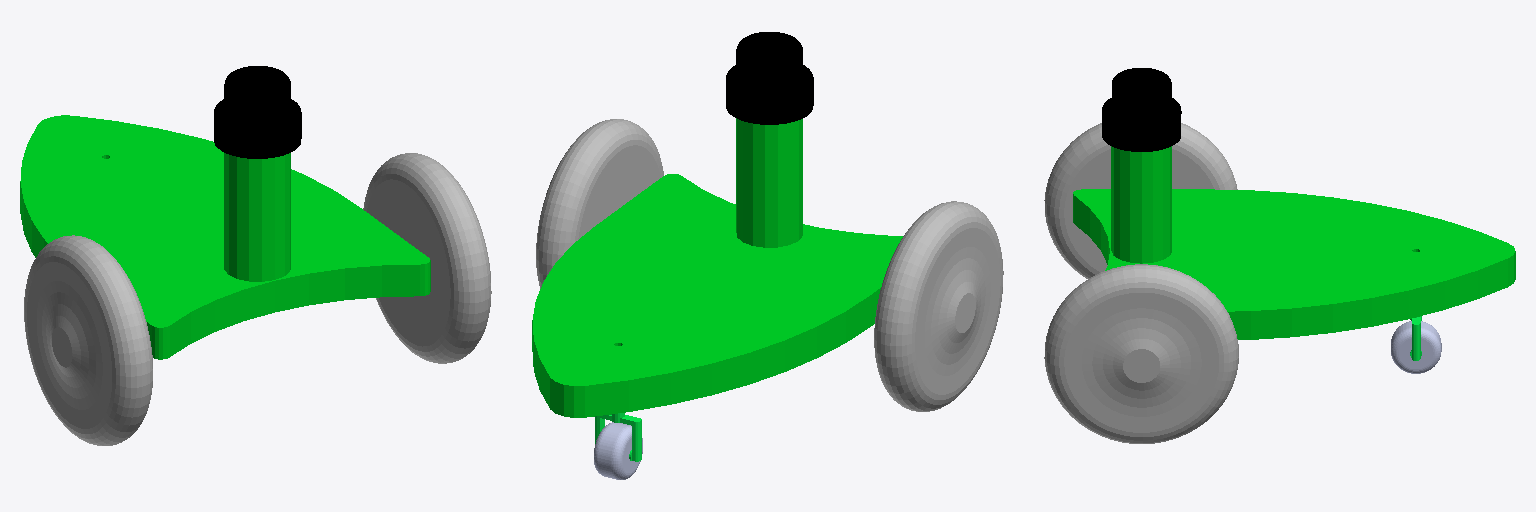
URDF robot description (rtvfin):
<?xml version="1.0" encoding="utf-8"?>
<!-- This URDF was automatically created by SolidWorks to URDF Exporter! Originally created by [author] ([email redacted]) 
     Commit Version: 1.6.0-1-g15f4949  Build Version: 1.6.7594.29634
     For more information, please see http://wiki.ros.org/sw_urdf_exporter -->
<robot
  name="rtvfin">
  <link name="base_link">
    <inertial>
      <origin
        xyz="0.1975 0.14943 -0.17868"
        rpy="0 0 0" />
      <mass
        value="6.851" />
      <inertia
        ixx="0.13782"
        ixy="-1.1943E-17"
        ixz="6.9346E-17"
        iyy="0.18627"
        iyz="-0.010532"
        izz="0.06655" />
    </inertial>
    <visual>
      <origin
        xyz="0 0 0"
        rpy="0 0 0" />
      <geometry>
        <mesh
          filename="package://rtvfin/meshes/base_link.STL" />
      </geometry>
      <material
        name="">
        <color
          rgba="0 0.87843 0.16471 1" />
      </material>
    </visual>
    <collision>
      <origin
        xyz="0 0 0"
        rpy="0 0 0" />
      <geometry>
        <mesh
          filename="package://rtvfin/meshes/base_link.STL" />
      </geometry>
    </collision>
  </link>
  <link name="left_wheel_link">
    <inertial>
      <origin
        xyz="-0.025442562384682 0 -1.38777878078145E-17"
        rpy="0 0 0" />
      <mass
        value="2.23208588786701" />
      <inertia
        ixx="0.0150507702527097"
        ixy="-7.83936393224049E-19"
        ixz="9.01679053389912E-19"
        iyy="0.00801207149472829"
        iyz="-6.50521303491303E-19"
        izz="0.00801207149472829" />
    </inertial>
    <visual>
      <origin
        xyz="0 0 0"
        rpy="0 0 0" />
      <geometry>
        <mesh
          filename="package://rtvfin/meshes/left_wheel_link.STL" />
      </geometry>
      <material
        name="">
        <color
          rgba="0.752941176470588 0.752941176470588 0.752941176470588 1" />
      </material>
    </visual>
    <collision>
      <origin
        xyz="0 0 0"
        rpy="0 0 0" />
      <geometry>
        <mesh
          filename="package://rtvfin/meshes/left_wheel_link.STL" />
      </geometry>
    </collision>
  </link>
  <joint name="left_link"
    type="continuous">
    <origin
      xyz="0 0.035844 0.11868"
      rpy="-2.1829 0 0" />
    <parent
      link="base_link" />
    <child
      link="left_wheel_link" />
    <axis
      xyz="1 0 0" />
  </joint>
  <link name="right_wheel_link">
    <inertial>
      <origin
        xyz="-0.083442562384682 -2.08166817117217E-17 2.77555756156289E-17"
        rpy="0 0 0" />
      <mass
        value="2.23208588786701" />
      <inertia
        ixx="0.0150507702527097"
        ixy="1.04707723527385E-18"
        ixz="4.47140523783489E-19"
        iyy="0.0080120714947283"
        iyz="0"
        izz="0.0080120714947283" />
    </inertial>
    <visual>
      <origin
        xyz="0 0 0"
        rpy="0 0 0" />
      <geometry>
        <mesh
          filename="package://rtvfin/meshes/right_wheel_link.STL" />
      </geometry>
      <material
        name="">
        <color
          rgba="0.752941176470588 0.752941176470588 0.752941176470588 1" />
      </material>
    </visual>
    <collision>
      <origin
        xyz="0 0 0"
        rpy="0 0 0" />
      <geometry>
        <mesh
          filename="package://rtvfin/meshes/right_wheel_link.STL" />
      </geometry>
    </collision>
  </link>
  <joint name="fight_link"
    type="continuous">
    <origin
      xyz="0.337 0.035844 0.11868"
      rpy="2.9765 0 3.1416" />
    <parent
      link="base_link" />
    <child
      link="right_wheel_link" />
    <axis
      xyz="1 0 0" />
  </joint>
  <link name="little_body_link">
    <inertial>
      <origin
        xyz="-2.67674771237125E-13 0.0459540094478621 -7.64113969988212E-05"
        rpy="0 0 0" />
      <mass
        value="0.0309195136006862" />
      <inertia
        ixx="4.25932255697471E-05"
        ixy="-7.90156577307605E-17"
        ixz="-2.31994972687621E-14"
        iyy="7.40957987340259E-06"
        iyz="-2.25518117414848E-08"
        izz="3.59714206217553E-05" />
    </inertial>
    <visual>
      <origin
        xyz="0 0 0"
        rpy="0 0 0" />
      <geometry>
        <mesh
          filename="package://rtvfin/meshes/little_body_link.STL" />
      </geometry>
      <material
        name="">
        <color
          rgba="0.0392156862745098 1 0.337254901960784 1" />
      </material>
    </visual>
    <collision>
      <origin
        xyz="0 0 0"
        rpy="0 0 0" />
      <geometry>
        <mesh
          filename="package://rtvfin/meshes/little_body_link.STL" />
      </geometry>
    </collision>
  </link>
  <joint name="body_link"
    type="fixed">
    <origin
      xyz="0.1975 0.38084 0.017124"
      rpy="1.5708 0 1.5708" />
    <parent
      link="base_link" />
    <child
      link="little_body_link" />
    <axis
      xyz="0 1 0" />
  </joint>
  <link name="little_wheel_link">
    <inertial>
      <origin
        xyz="0.00121984656174834 -0.00218219485055544 -9.37075362563156E-05"
        rpy="0 0 0" />
      <mass
        value="0.105305674206665" />
      <inertia
        ixx="3.75986355552618E-05"
        ixy="0"
        ixz="4.8958160903679E-14"
        iyy="3.75986355552618E-05"
        iyz="2.73676072745913E-14"
        izz="5.36078275271206E-05" />
    </inertial>
    <visual>
      <origin
        xyz="0 0 0"
        rpy="0 0 0" />
      <geometry>
        <mesh
          filename="package://rtvfin/meshes/little_wheel_link.STL" />
      </geometry>
      <material
        name="">
        <color
          rgba="0.792156862745098 0.819607843137255 0.933333333333333 1" />
      </material>
    </visual>
    <collision>
      <origin
        xyz="0 0 0"
        rpy="0 0 0" />
      <geometry>
        <mesh
          filename="package://rtvfin/meshes/little_wheel_link.STL" />
      </geometry>
    </collision>
  </link>
  <joint name="little_link"
    type="continuous">
    <origin
      xyz="0 0.01 0"
      rpy="0 0 -0.50973" />
    <parent
      link="little_body_link" />
    <child
      link="little_wheel_link" />
    <axis
      xyz="0 0 1" />
  </joint>
  <link name="lidar_scaner_link">
    <inertial>
      <origin
        xyz="0 -4.16333634234434E-17 0.0342165768302536"
        rpy="0 0 0" />
      <mass
        value="0.491430460551325" />
      <inertia
        ixx="0.000499328268367785"
        ixy="0"
        ixz="4.35781389685268E-20"
        iyy="0.000499328268367785"
        iyz="-3.36563846024757E-21"
        izz="0.00051728611281361" />
    </inertial>
    <visual>
      <origin
        xyz="0 0 0"
        rpy="0 0 0" />
      <geometry>
        <mesh
          filename="package://rtvfin/meshes/lidar_scaner_link.STL" />
      </geometry>
      <material
        name="">
        <color
          rgba="0 0 0 1" />
      </material>
    </visual>
    <collision>
      <origin
        xyz="0 0 0"
        rpy="0 0 0" />
      <geometry>
        <mesh
          filename="package://rtvfin/meshes/lidar_scaner_link.STL" />
      </geometry>
    </collision>
  </link>
  <joint name="lidar_link"
    type="fixed">
    <origin
      xyz="0.1975 0.035844 0.31868"
      rpy="0 0 0.79166" />
    <parent
      link="base_link" />
    <child
      link="lidar_scaner_link" />
    <axis
      xyz="0 0 1" />
  </joint>
  <gazebo reference="lidar_scaner_link">
     <sensor type="ray" name="head_lidar_sensor">
      <pose>0 0 0 0 0 0</pose>
      <visualize>true</visualize>
      <update_rate>40</update_rate>
      <ray>
        <scan>
          <horizontal>
            <samples>720</samples>
            <resolution>1</resolution>
            <min_angle>-3.1415</min_angle>
            <max_angle>3.1415</max_angle>
          </horizontal>
        </scan>
        <range>
          <min>0.10</min>
          <max>30.0</max>
          <resolution>0.01</resolution>
        </range>
        <noise>
          <type>gaussian</type>
          <!-- Noise parameters based on published spec for Hokuyo laser
               achieving "+-30mm" accuracy at range < 10m.  A mean of 0.0m and
               stddev of 0.01m will put 99.7% of samples within 0.03m of the true
               reading. -->
          <mean>0.0</mean>
          <stddev>0.01</stddev>
        </noise>
      </ray>
      <plugin name="gazebo_ros_head_lidar_controller" filename="libgazebo_ros_laser.so">
        <topicName>/rtv0/laser/scan</topicName>
        <frameName>lidar_scaner_link</frameName>
      </plugin>
     </sensor>
    
  </gazebo>
  <gazebo>
   <plugin name="differential_drive_controller" filename="libgazebo_ros_diff_drive.so">
    <legacyMode>false</legacyMode>
    <alwaysOn>true</alwaysOn>
    <publishWheelTF>true</publishWheelTF>
    <publishTf>1</publishTf>
    <publishWheelJointState>true</publishWheelJointState>
    <updateRate>100.0</updateRate>
    <leftJoint>left_link</leftJoint>
    <rightJoint>fight_link</rightJoint>
    <wheelSeparation>1.1</wheelSeparation>
    <wheelDiameter>0.52</wheelDiameter>
    <wheelAcceleration>1.0</wheelAcceleration>
    <torque>20</torque>
    <commandTopic>/part2_cmr/cmd_vel</commandTopic>
    <odometryTopic>odom</odometryTopic>
    <odometryFrame>odom</odometryFrame>
    <robotBaseFrame>base_link</robotBaseFrame>
   </plugin>
</gazebo>
</robot>

--- Facts derived from the render (not from the file) ---
Views: 3 orthographic renders of the robot side by side, from view 1: azimuth 30°, elevation 25°; view 2: azimuth 150°, elevation 25°; view 3: azimuth 270°, elevation 25°.
Robot: rtvfin — 6 links, 5 joints (3 continuous, 2 fixed); root link base_link; default pose: every joint at zero.
Visible links, largest first — view 1: base_link, left_wheel_link, right_wheel_link, lidar_scaner_link; view 2: base_link, left_wheel_link, right_wheel_link, lidar_scaner_link, little_wheel_link, little_body_link; view 3: base_link, right_wheel_link, left_wheel_link, lidar_scaner_link, little_wheel_link.
Link boxes in pixels (bbox=[...]): base_link: bbox=[20, 115, 430, 359]; left_wheel_link: bbox=[24, 235, 152, 445]; right_wheel_link: bbox=[363, 153, 491, 363]; lidar_scaner_link: bbox=[214, 66, 301, 158]; base_link: bbox=[532, 118, 902, 417]; left_wheel_link: bbox=[874, 201, 1003, 411]; right_wheel_link: bbox=[536, 119, 663, 288]; lidar_scaner_link: bbox=[726, 32, 813, 124]; little_wheel_link: bbox=[594, 422, 642, 479]; little_body_link: bbox=[595, 413, 641, 461]; base_link: bbox=[1073, 146, 1515, 339]; right_wheel_link: bbox=[1044, 264, 1238, 443]; left_wheel_link: bbox=[1044, 123, 1237, 278]; lidar_scaner_link: bbox=[1102, 68, 1181, 151]; little_wheel_link: bbox=[1391, 321, 1441, 373].
Bounding box of the posed robot: 0.515 × 0.5924 × 0.4061 m (x, y, z).
6 mesh visuals loaded from 6 distinct referenced files (6 binary STL).
